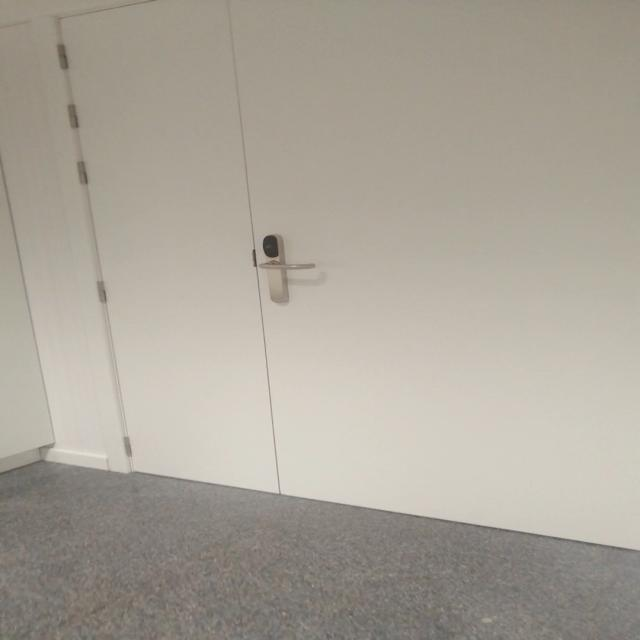door_handle: (251, 259, 319, 272)
